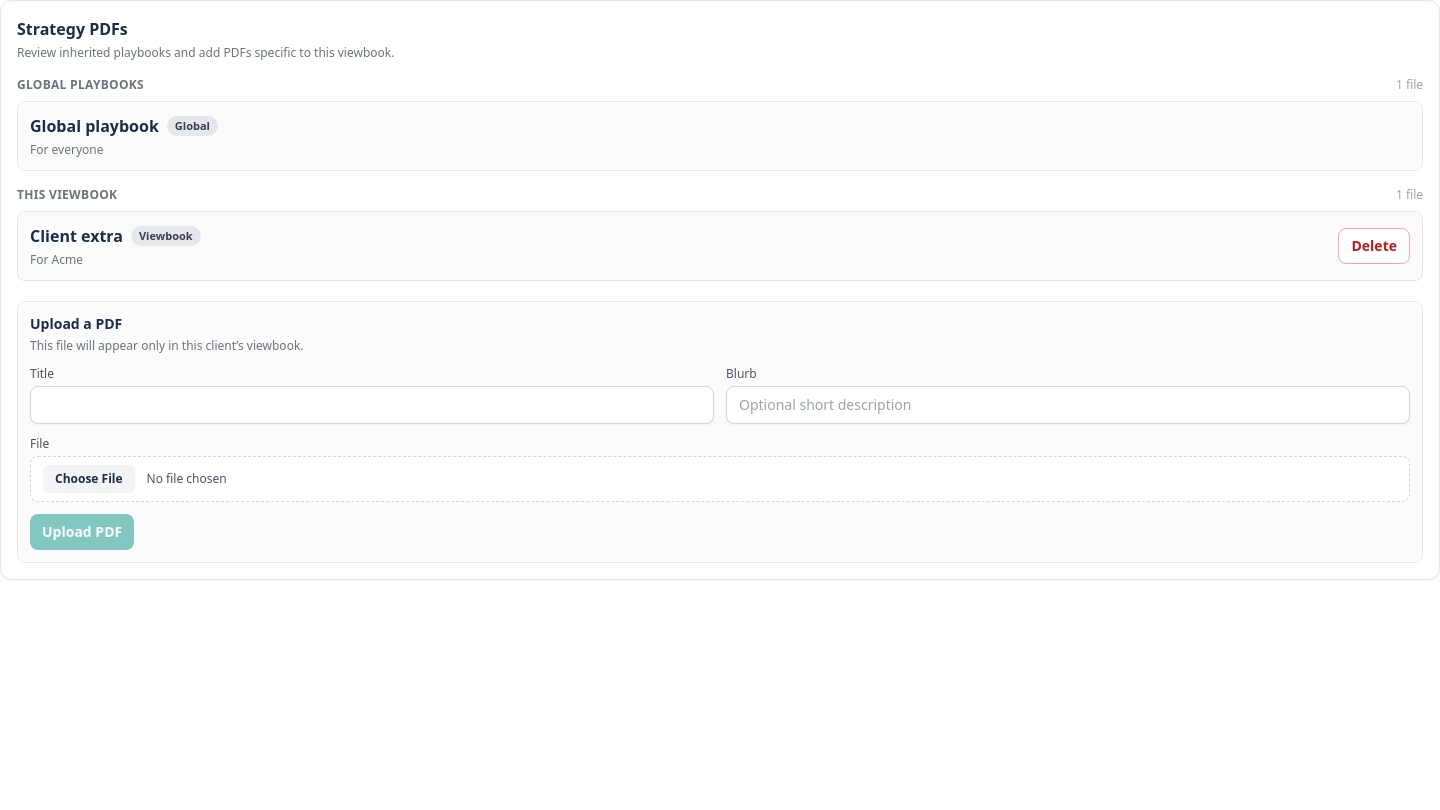
it: StrategyDocsCard › confirms and deletes an owned document, then reloads the list
Check: the text "Client extra" is shown, box [30,224,123,248]
Click the button with aria-label "Delete Client extra".
click(1374, 246)  # box [1338,228,1410,264]
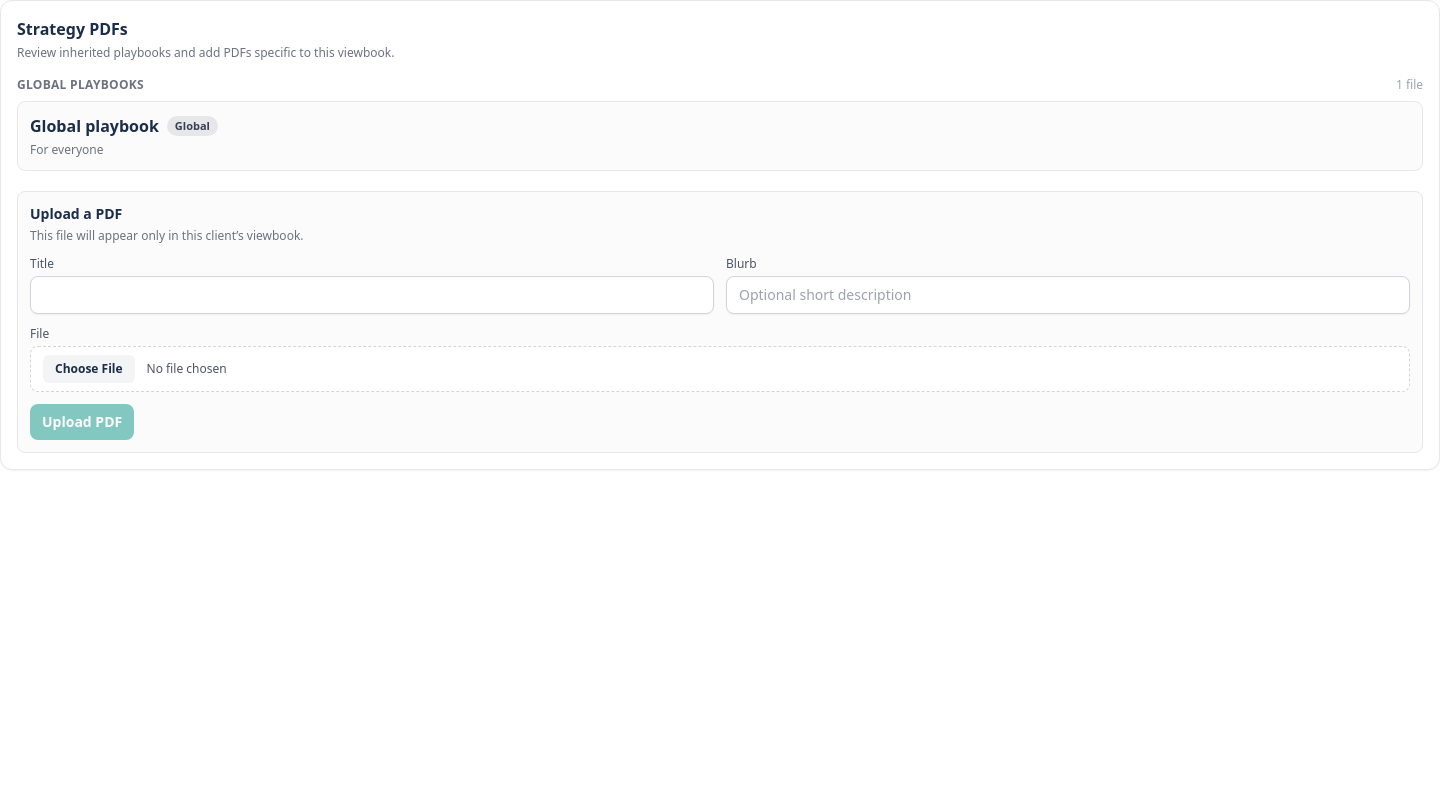
Check: the text "Client extra" is gone
